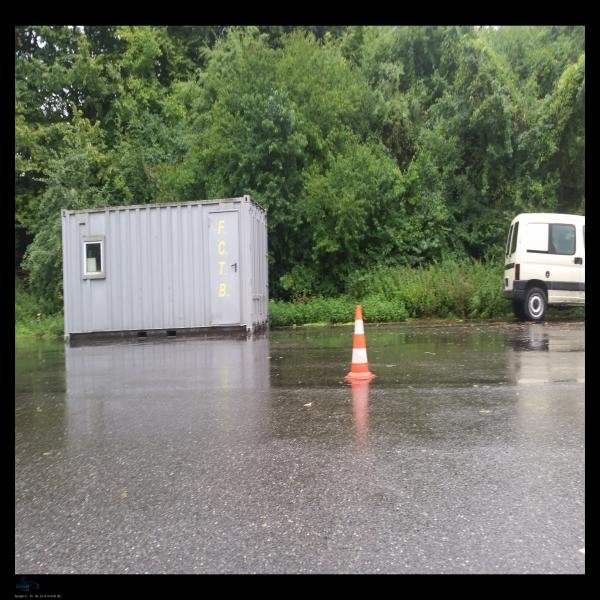large_orange_cone: (344, 305, 376, 380)
